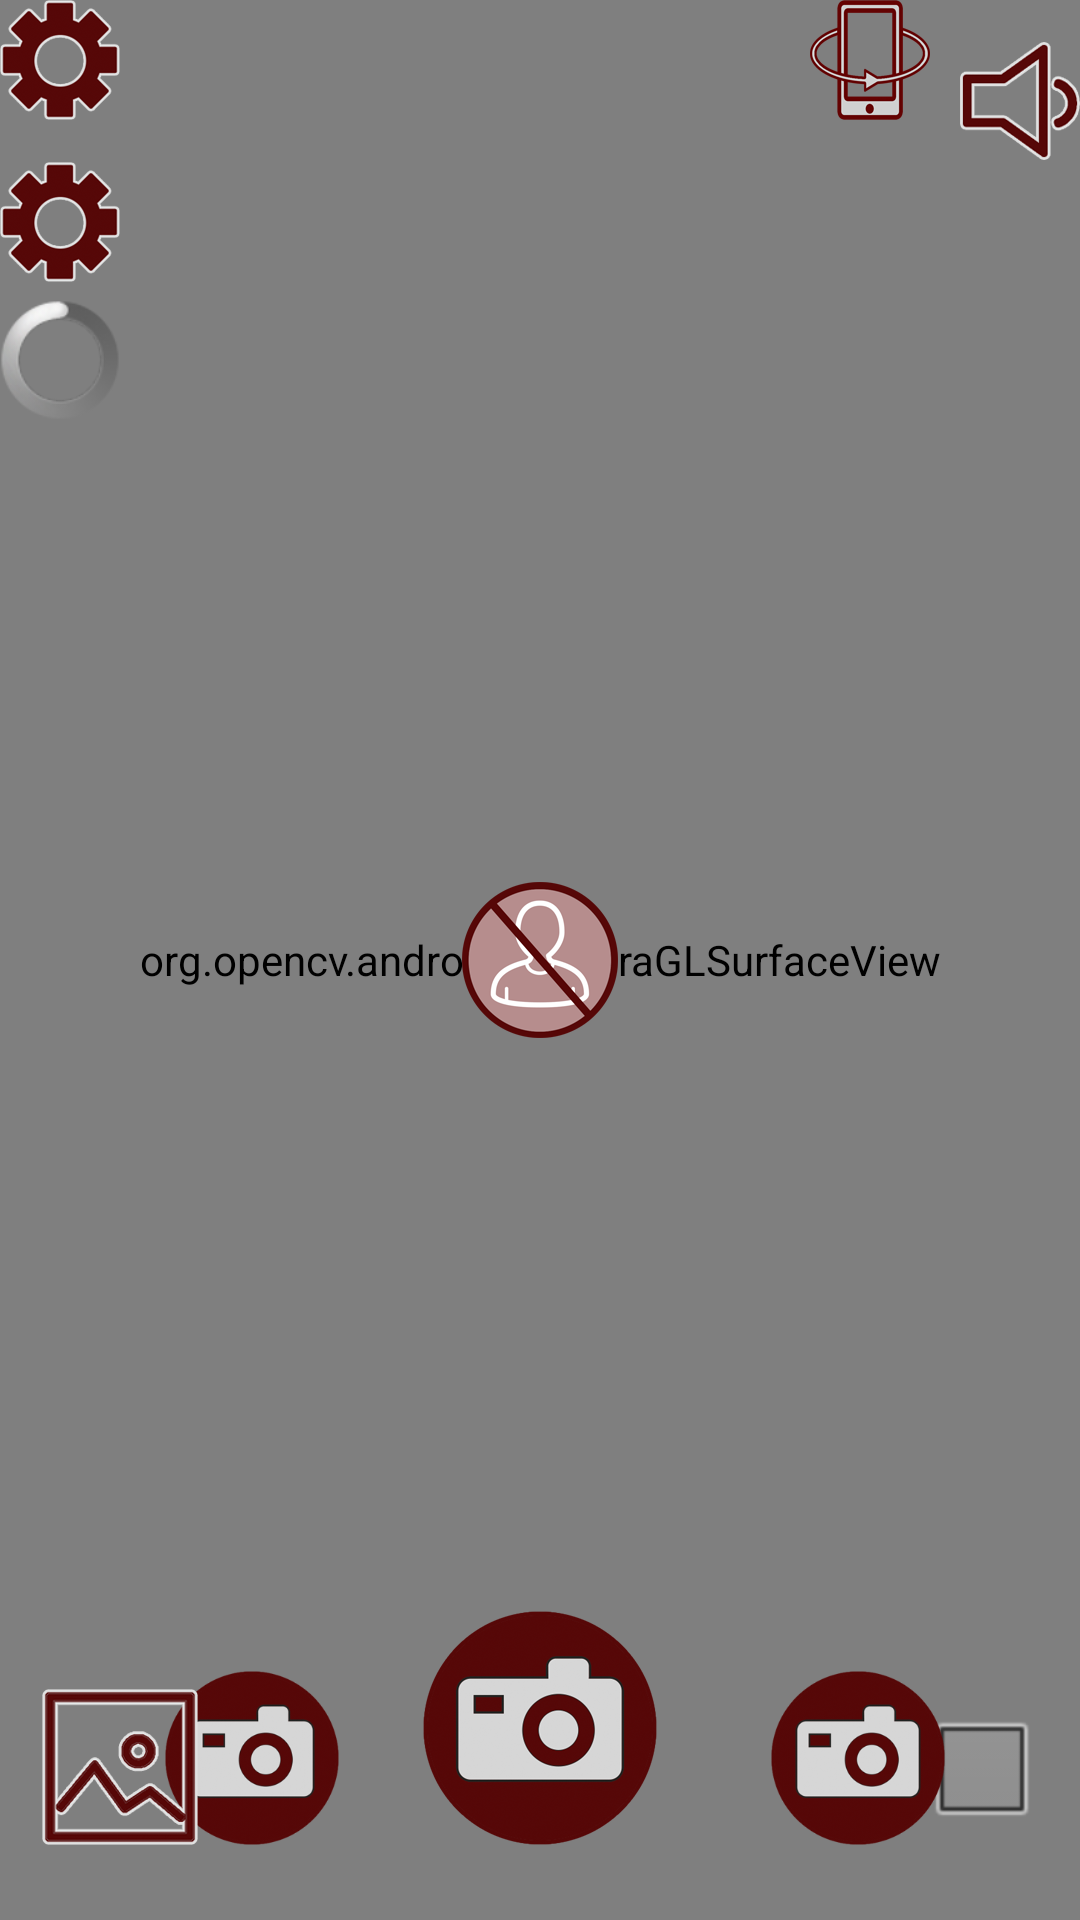

Icons on this 1080 x 1920 Android screen, each with the point to tap as point (x, y):
camera turn: point (870, 60)
gallery: point (120, 1767)
noperson: point (540, 960)
sound: point (1020, 101)
